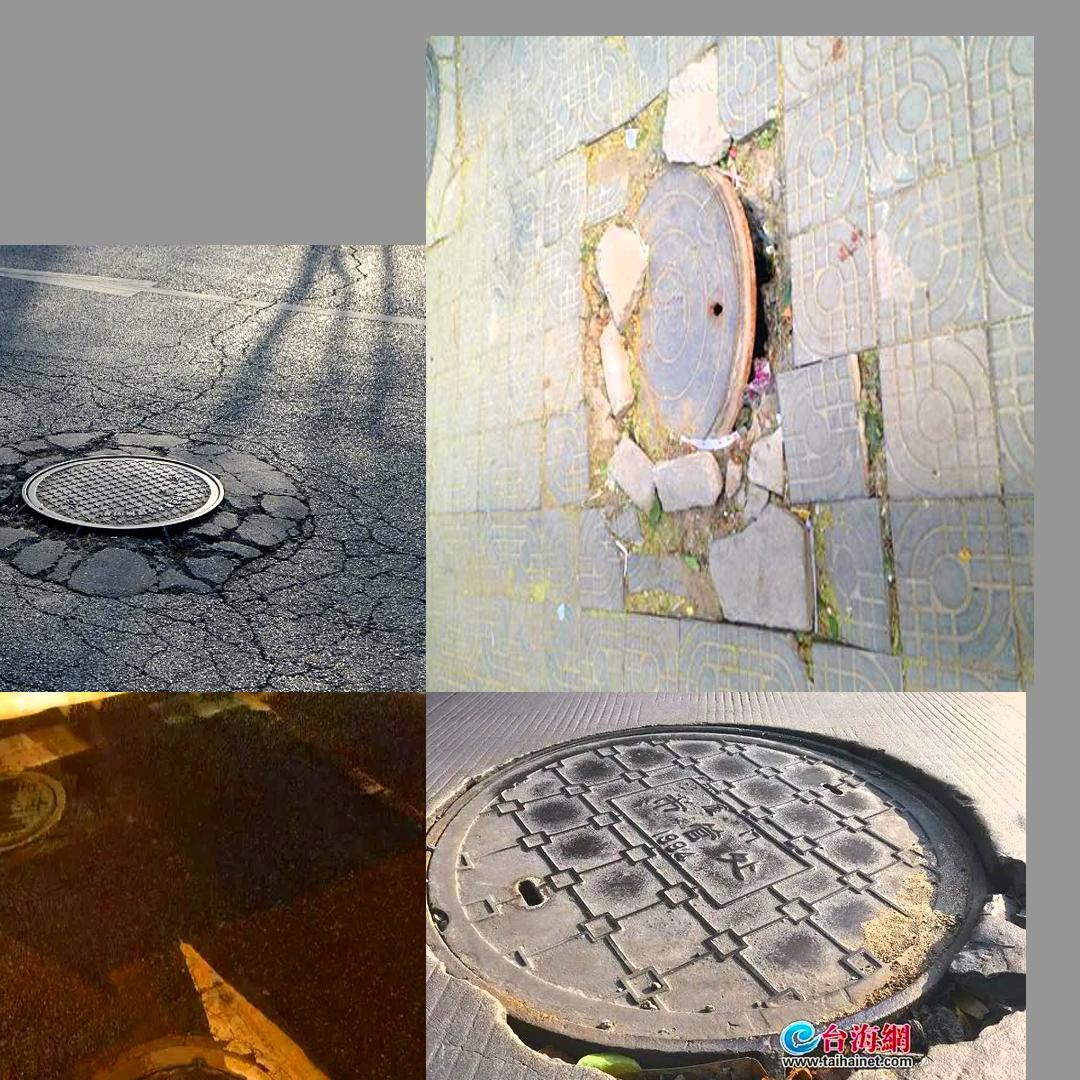circle: (441, 720, 1013, 1080), (578, 119, 816, 637), (0, 424, 325, 619), (0, 1002, 391, 1080)
